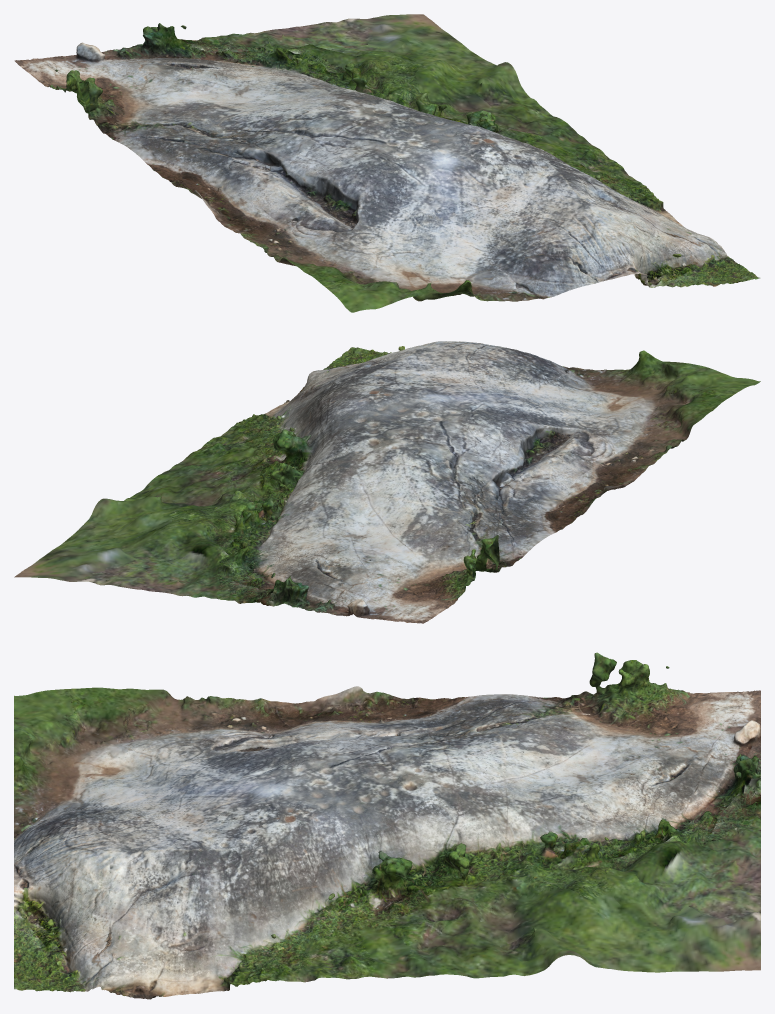
The model's file is dalle-10.glb.
The picture shows the model from 3 angles, top to bottom: view 1: azimuth 30°, elevation 25°; view 2: azimuth 150°, elevation 25°; view 3: azimuth 270°, elevation 25°; orthographic projection. The views are drawn at different scales.
Visible parts, largest first — view 1: Node1; view 2: Node1; view 3: Node1.
Part boxes in pixels (x1=…): Node1: x1=14, y1=14, x2=760, y2=312; Node1: x1=14, y1=341, x2=760, y2=623; Node1: x1=14, y1=652, x2=760, y2=999.
Bounding box in the file's own units: 2.23 × 0.5934 × 3.18.
Materials: 1 (1 with a texture image).
